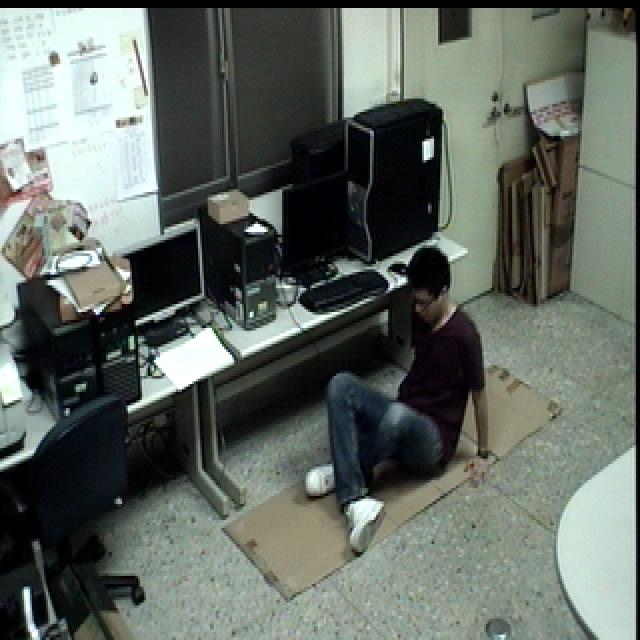sit: (302, 238, 500, 561)
